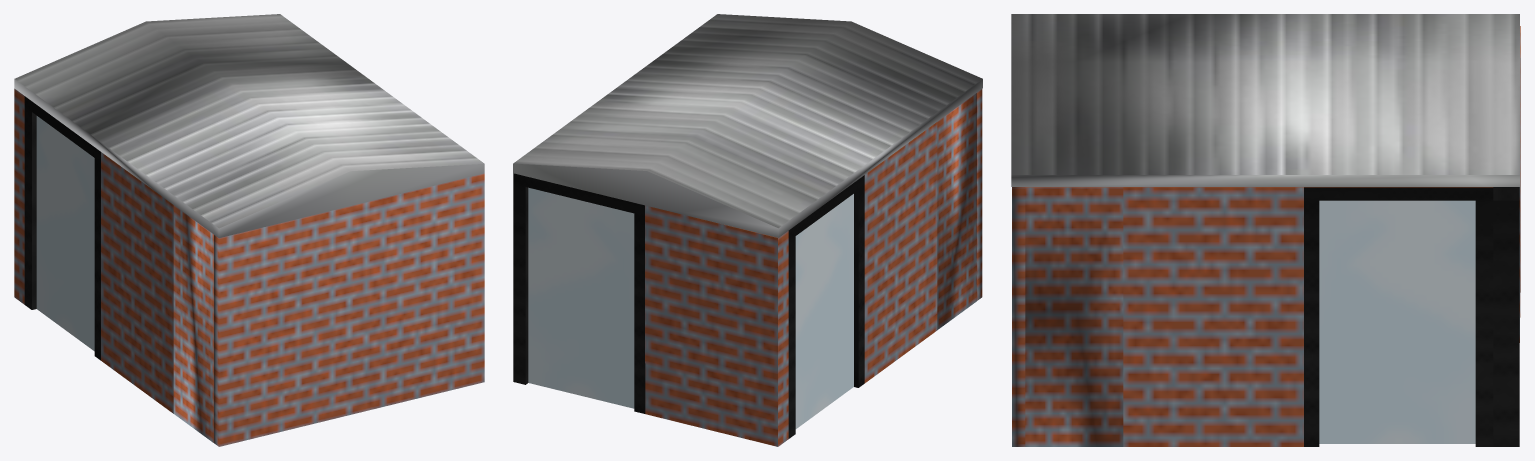
Rendered from Saladereuniao.fbx.
3 renders of one model, left to right at view 1: azimuth 30°, elevation 25°; view 2: azimuth 150°, elevation 25°; view 3: azimuth 270°, elevation 25°, orthographic. The views are drawn at different scales.
Parts seen in each view (by area): view 1: Parede lado.001; view 2: Parede lado.001; view 3: Parede lado.001.
Part boxes in pixels (x1,y1,x2,y2): Parede lado.001: (14, 14, 484, 446); Parede lado.001: (513, 14, 982, 446); Parede lado.001: (1011, 14, 1520, 446).
Size of the model in its own units: 10492 by 9195 by 13998.
